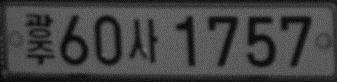0: (93, 14, 123, 66)
1: (172, 14, 203, 66)
5: (247, 15, 275, 66)
6: (59, 14, 88, 66)
7: (207, 15, 239, 67), (280, 16, 312, 66)
광주_V: (25, 12, 55, 65)
사: (128, 17, 158, 63)
